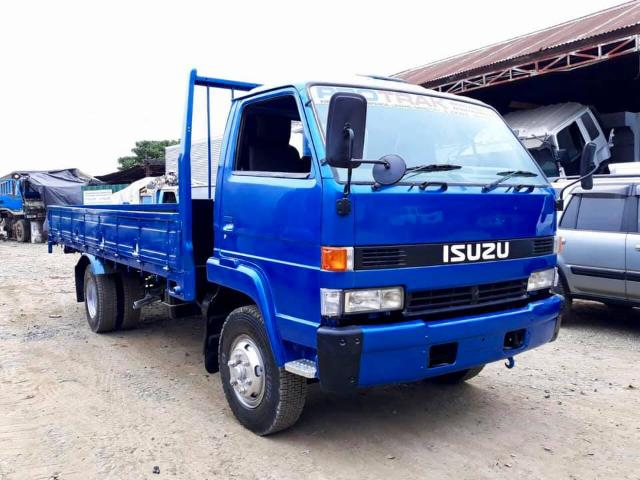truck: (43, 80, 579, 437)
